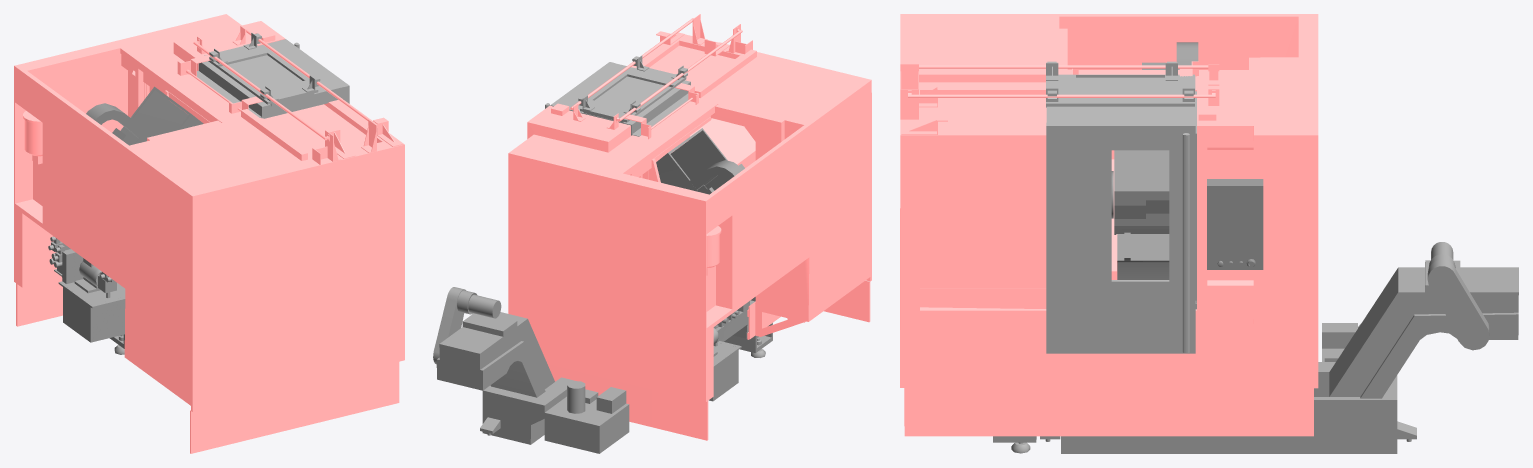
The picture shows the model from 3 angles, left to right: view 1: azimuth 30°, elevation 25°; view 2: azimuth 150°, elevation 25°; view 3: azimuth 270°, elevation 25°; orthographic projection. The views are drawn at different scales.
Parts seen in each view (by area): view 1: DC_Shell_Z, DC_Shell, DC_Pedestal, DC_Move, DC_Shell_Z2, DC_Shell_Z1; view 2: DC_Shell_Z, DC_Pedestal, DC_Shell, DC_Move, DC_Shell_Z2, DC_Shell_Z1; view 3: DC_Shell_Z, DC_Shell, DC_Pedestal, DC_Shell_Z3, DC_Move, xiangzi, DC_Shell_Z2, DC_Shell_Z1.
Boxes of the visible parts, box(x1,y1,x2,y2) form: DC_Shell_Z: box(14, 14, 404, 453); DC_Shell: box(128, 32, 349, 118); DC_Pedestal: box(48, 236, 125, 354); DC_Move: box(86, 86, 203, 145); DC_Shell_Z2: box(177, 26, 403, 164); DC_Shell_Z1: box(135, 29, 378, 140); DC_Shell_Z: box(508, 14, 871, 440); DC_Pedestal: box(433, 287, 772, 453); DC_Shell: box(545, 55, 690, 136); DC_Move: box(656, 128, 744, 194); DC_Shell_Z2: box(573, 14, 805, 339); DC_Shell_Z1: box(570, 18, 742, 176); DC_Shell_Z: box(900, 14, 1318, 436); DC_Shell: box(1046, 61, 1196, 353); DC_Pedestal: box(993, 242, 1518, 453); DC_Shell_Z3: box(1197, 126, 1253, 353); DC_Move: box(1111, 42, 1198, 279); xiangzi: box(1207, 179, 1263, 269); DC_Shell_Z2: box(900, 61, 1219, 134); DC_Shell_Z1: box(908, 65, 1215, 97).
Bounding box in the file's own units: 276 × 335 × 531.
